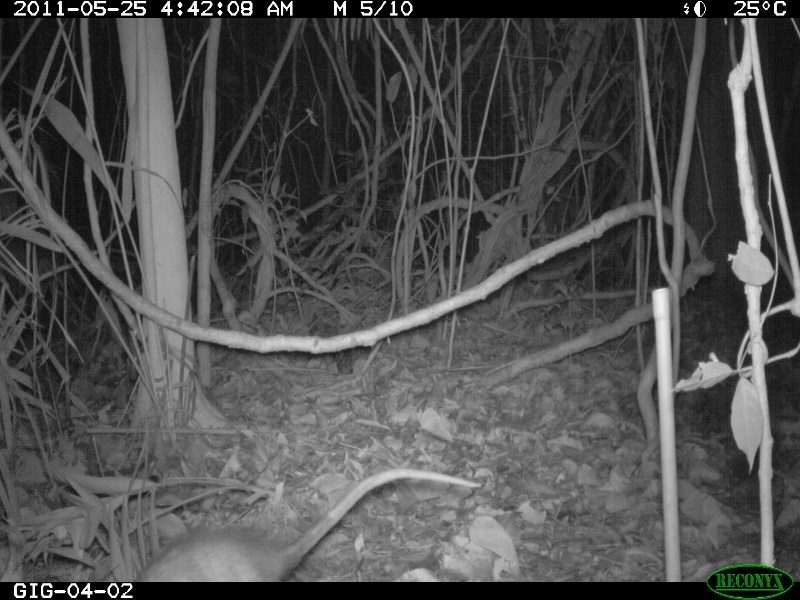opossum: (129, 462, 495, 582)
